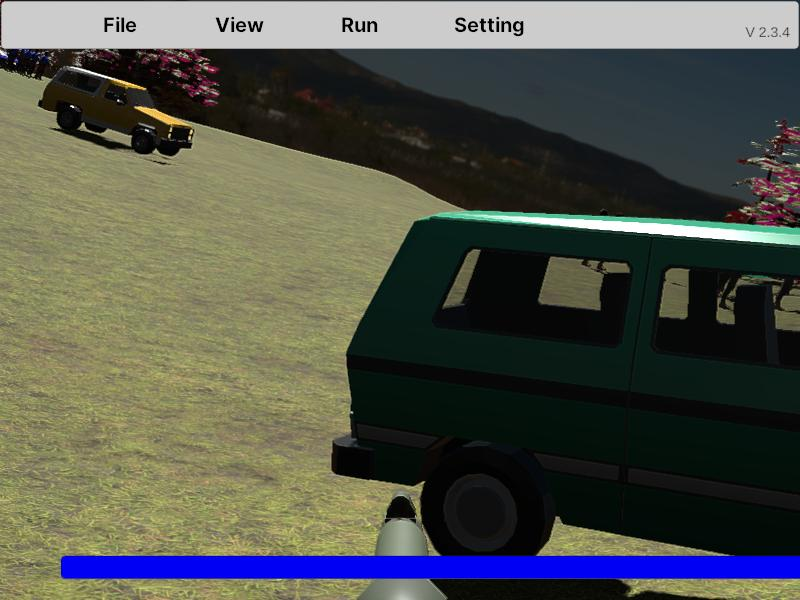car: (340, 212, 800, 569), (39, 66, 195, 158)
